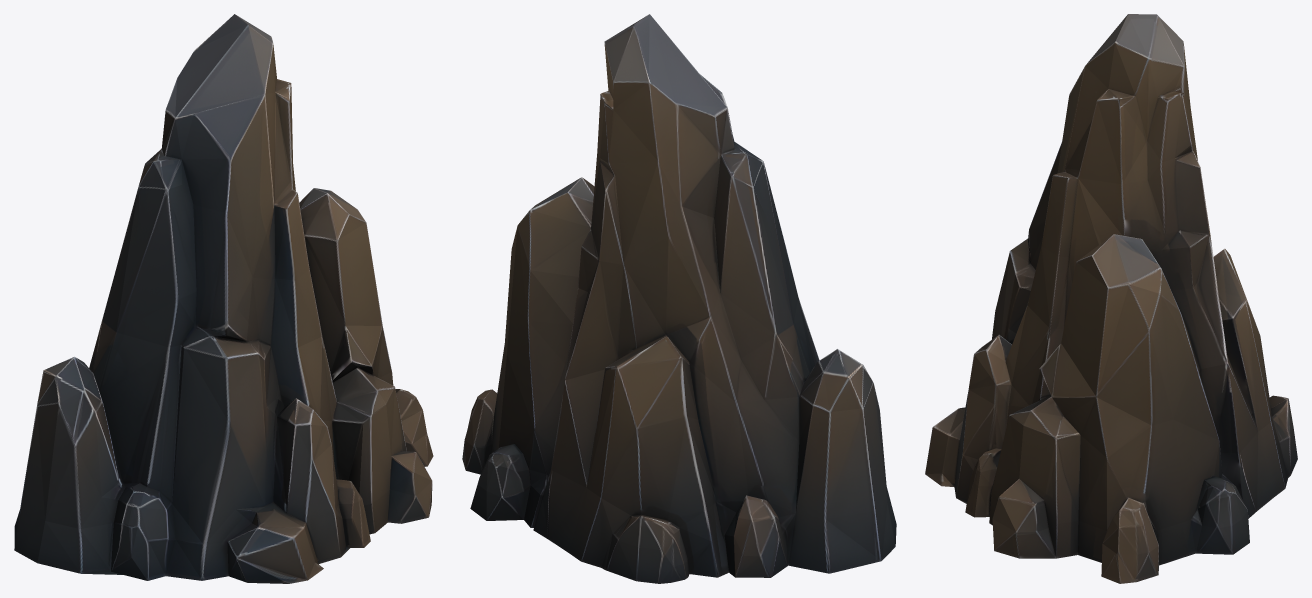
3 renders of one model, left to right at view 1: azimuth 30°, elevation 25°; view 2: azimuth 150°, elevation 25°; view 3: azimuth 270°, elevation 25°, orthographic. The views are drawn at different scales.
Parts seen in each view (by area): view 1: texture_pbr_v128; view 2: texture_pbr_v128; view 3: texture_pbr_v128.
Boxes of the visible parts, left/top/right/bottom form: texture_pbr_v128: left=14, top=14, right=433, bottom=583; texture_pbr_v128: left=462, top=14, right=896, bottom=583; texture_pbr_v128: left=925, top=14, right=1297, bottom=583.
Bounding box in the file's own units: 0.8057 × 0.8867 × 0.6236.
1 material, 1 textured.
